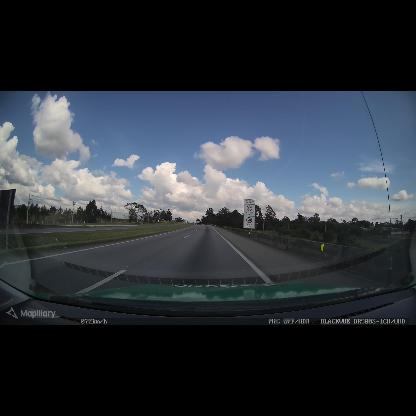I-SA: (244, 199, 255, 205)
R-19: (243, 204, 255, 229)
